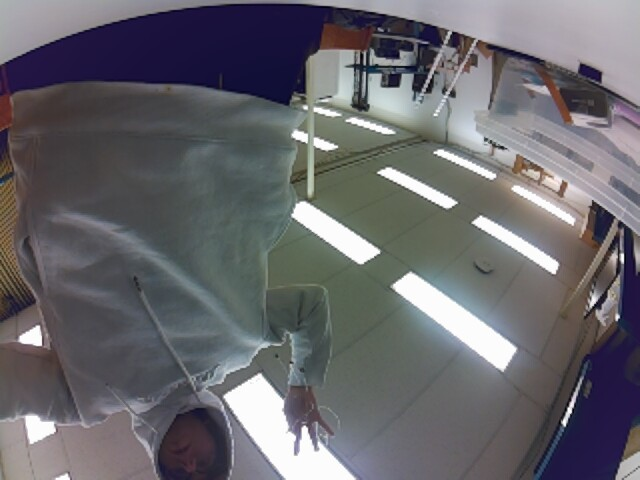mosquito: (273, 352, 280, 360), (299, 366, 306, 374), (287, 359, 295, 365)
